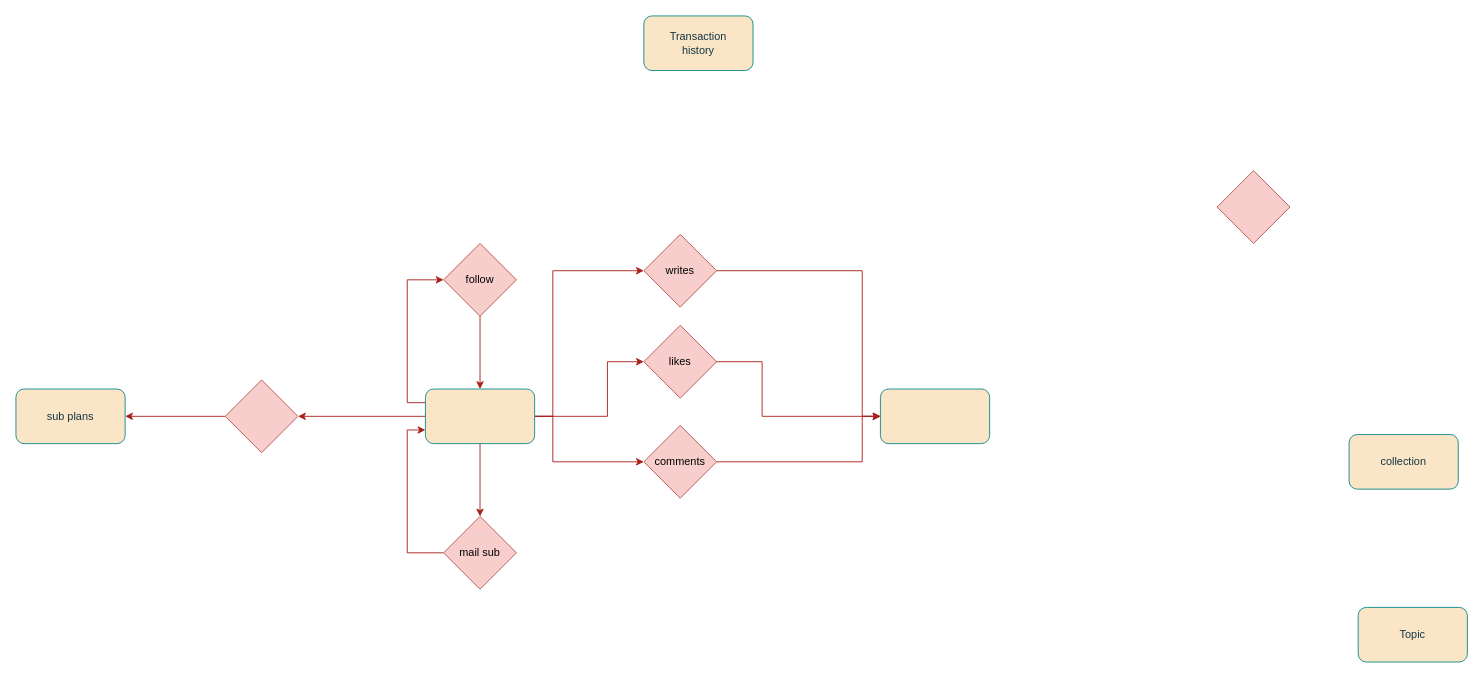
Image size: 1483x678. Some labels were removed from this diagram. Each missing label, with the centre of its shape:
"Article" belongs at (x=935, y=416).
"like" belongs at (x=1253, y=206).
"subscribes" belongs at (x=261, y=416).
"User" belongs at (x=480, y=416).
